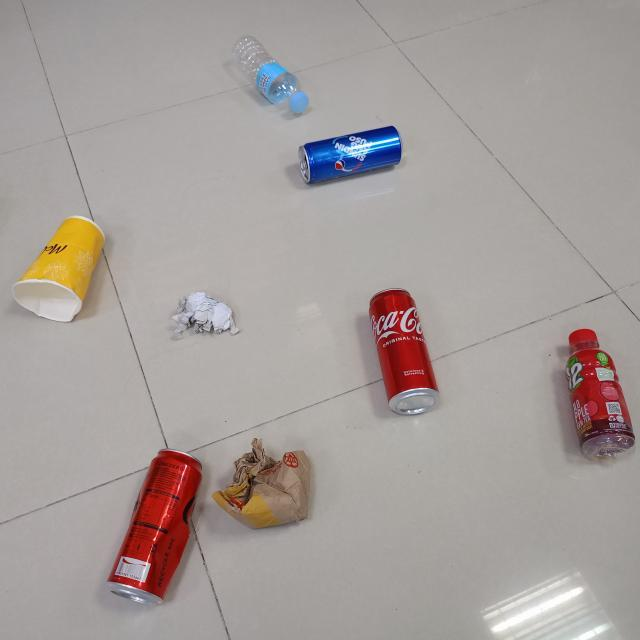recyclable waste: (102, 444, 211, 611), (6, 208, 110, 328), (560, 322, 640, 467), (363, 283, 445, 422), (208, 432, 317, 536), (226, 29, 314, 121), (294, 122, 409, 190), (165, 286, 246, 344)
